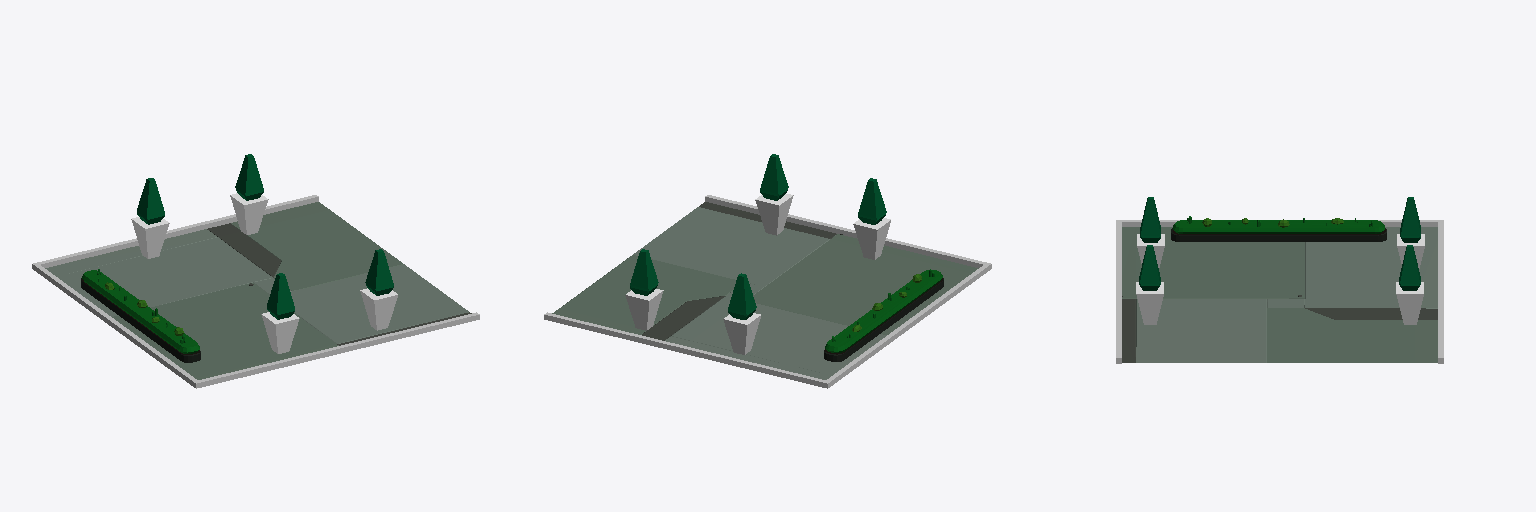
3 renders of one model, left to right at view 1: azimuth 30°, elevation 25°; view 2: azimuth 150°, elevation 25°; view 3: azimuth 270°, elevation 25°, orthographic.
Visible parts, largest first — view 1: Scifi_Panel_04_Plaza014_group4.037_Scifi_Panel_04_Plaza014_group, Cube.1135_Cube.1264, TreePatch_Plaza014_group3.001_TreePatch_Plaza014_group3.039, base_singlePot01.000_base_singlePot01.034, base_singlePot01.002_base_singlePot01.036, base_singlePot01.001_base_singlePot01.035, base_singlePot01.003_base_singlePot01.037; view 2: Scifi_Panel_04_Plaza014_group4.037_Scifi_Panel_04_Plaza014_group, Cube.1135_Cube.1264, TreePatch_Plaza014_group3.001_TreePatch_Plaza014_group3.039, base_singlePot01.002_base_singlePot01.036, base_singlePot01.001_base_singlePot01.035, base_singlePot01.000_base_singlePot01.034, base_singlePot01.003_base_singlePot01.037; view 3: Scifi_Panel_04_Plaza014_group4.037_Scifi_Panel_04_Plaza014_group, TreePatch_Plaza014_group3.001_TreePatch_Plaza014_group3.039, Cube.1135_Cube.1264, base_singlePot01.000_base_singlePot01.034, base_singlePot01.003_base_singlePot01.037, base_singlePot01.001_base_singlePot01.035, base_singlePot01.002_base_singlePot01.036.
Boxes of the visible parts, x1=… form: Scifi_Panel_04_Plaza014_group4.037_Scifi_Panel_04_Plaza014_group: x1=45, y1=202, x2=471, y2=379; Cube.1135_Cube.1264: x1=32, y1=195, x2=479, y2=388; TreePatch_Plaza014_group3.001_TreePatch_Plaza014_group3.039: x1=81, y1=270, x2=200, y2=362; base_singlePot01.000_base_singlePot01.034: x1=230, y1=154, x2=268, y2=234; base_singlePot01.002_base_singlePot01.036: x1=261, y1=273, x2=299, y2=353; base_singlePot01.001_base_singlePot01.035: x1=131, y1=178, x2=169, y2=258; base_singlePot01.003_base_singlePot01.037: x1=360, y1=249, x2=397, y2=330; Scifi_Panel_04_Plaza014_group4.037_Scifi_Panel_04_Plaza014_group: x1=552, y1=202, x2=978, y2=379; Cube.1135_Cube.1264: x1=544, y1=195, x2=991, y2=388; TreePatch_Plaza014_group3.001_TreePatch_Plaza014_group3.039: x1=824, y1=270, x2=943, y2=361; base_singlePot01.002_base_singlePot01.036: x1=853, y1=178, x2=890, y2=259; base_singlePot01.001_base_singlePot01.035: x1=723, y1=273, x2=760, y2=354; base_singlePot01.000_base_singlePot01.034: x1=625, y1=249, x2=663, y2=330; base_singlePot01.003_base_singlePot01.037: x1=755, y1=154, x2=793, y2=235; Scifi_Panel_04_Plaza014_group4.037_Scifi_Panel_04_Plaza014_group: x1=1122, y1=227, x2=1437, y2=362; TreePatch_Plaza014_group3.001_TreePatch_Plaza014_group3.039: x1=1171, y1=220, x2=1386, y2=241; Cube.1135_Cube.1264: x1=1116, y1=220, x2=1443, y2=363; base_singlePot01.000_base_singlePot01.034: x1=1396, y1=245, x2=1423, y2=324; base_singlePot01.003_base_singlePot01.037: x1=1136, y1=245, x2=1163, y2=324; base_singlePot01.001_base_singlePot01.035: x1=1397, y1=197, x2=1424, y2=268; base_singlePot01.002_base_singlePot01.036: x1=1137, y1=197, x2=1164, y2=267.
Bounding box in the file's own units: 10 × 2.6 × 10.